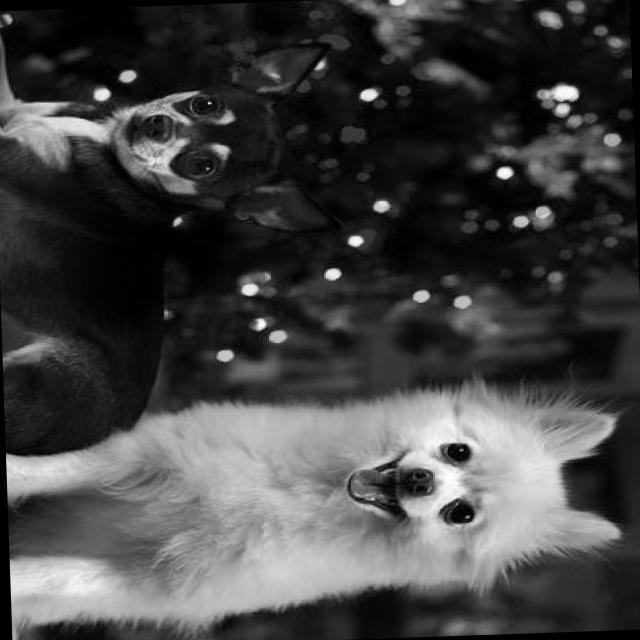sitting: (2, 378, 626, 635)
